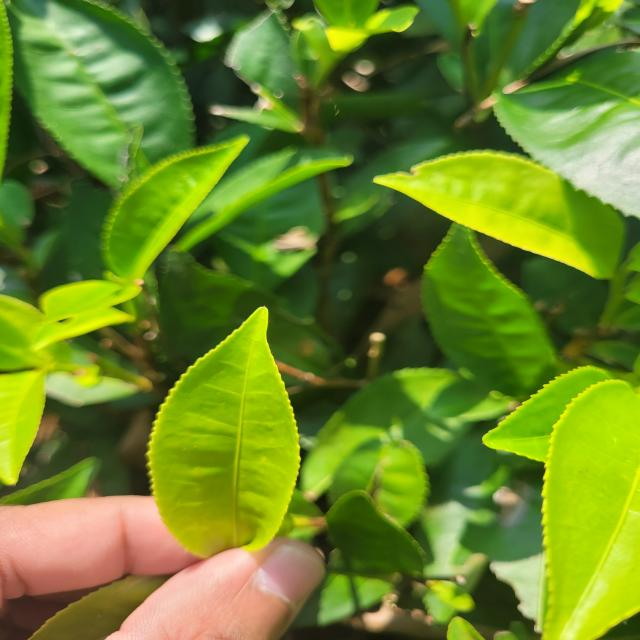Catagory A(1-2 days): (132, 299, 358, 568)
